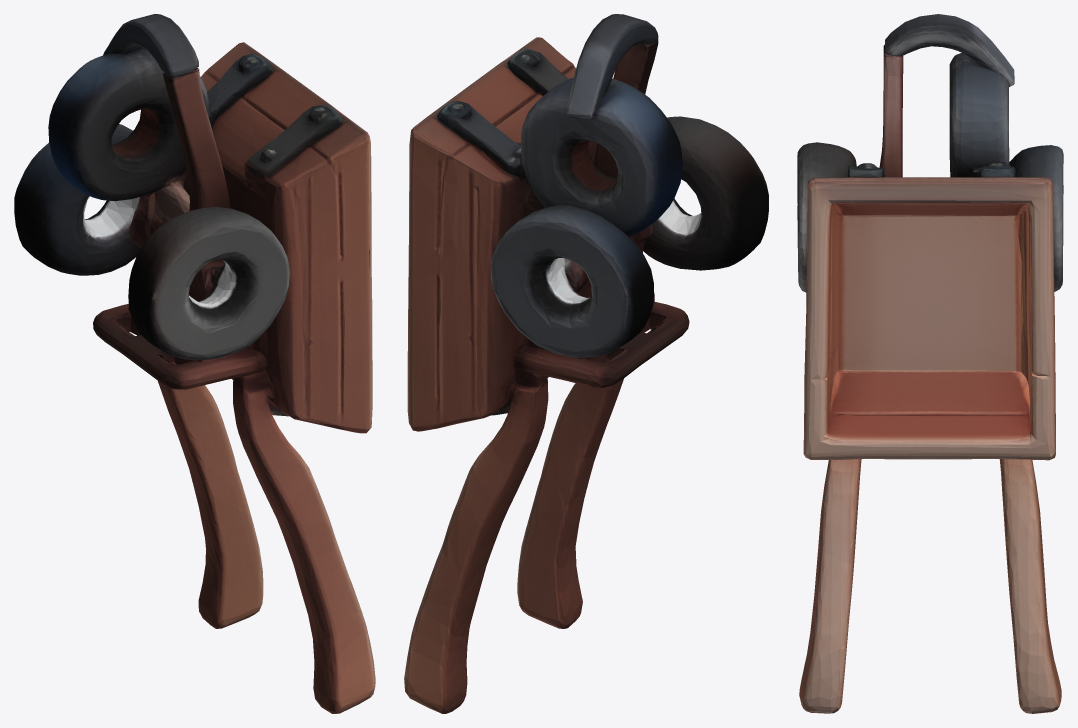
File: wheelbarrow_comfyui.glb
3 renders of one model, left to right at view 1: azimuth 30°, elevation 25°; view 2: azimuth 150°, elevation 25°; view 3: azimuth 270°, elevation 25°, orthographic. The views are drawn at different scales.
Size of the model in its own units: 0.3644 by 0.9992 by 0.3791.
Materials: 1 (1 with a texture image).
